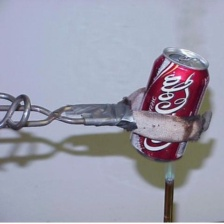can: (124, 45, 213, 165)
